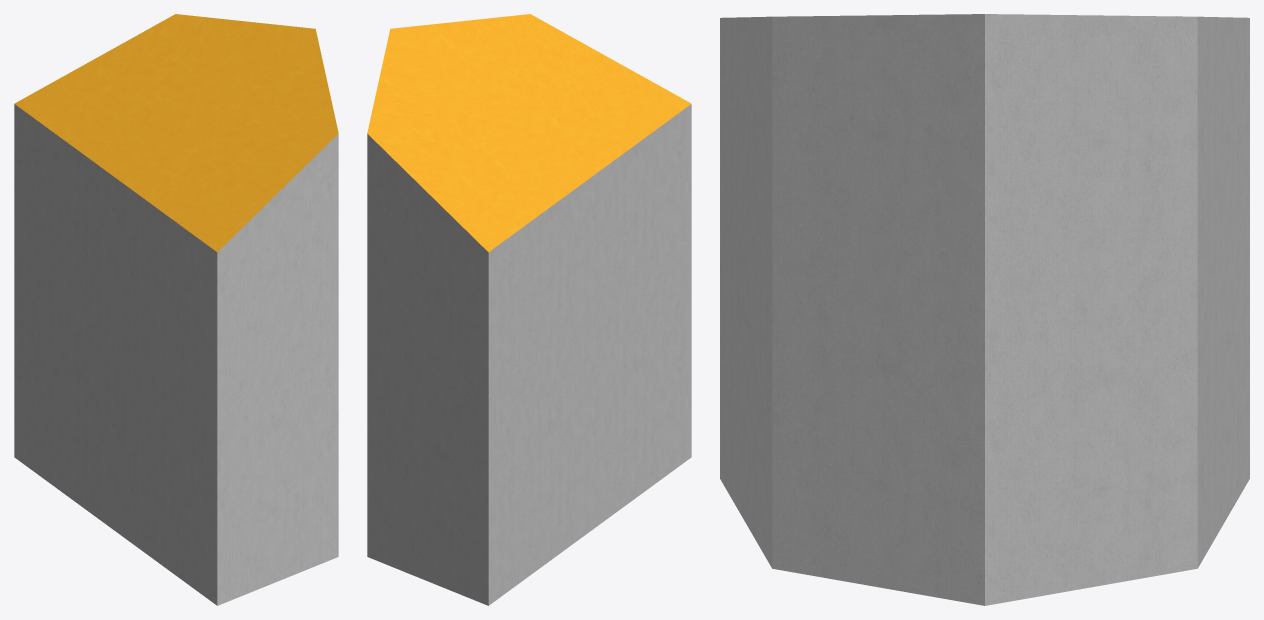
Rendered from Table.fbx.
The picture shows the model from 3 angles, left to right: view 1: azimuth 30°, elevation 25°; view 2: azimuth 150°, elevation 25°; view 3: azimuth 270°, elevation 25°; orthographic projection. The views are drawn at different scales.
Parts seen in each view (by area): view 1: Table; view 2: Table; view 3: Table.
Part boxes in pixels (x1,y1,x2,y2): Table: (14,14,338,605); Table: (367,14,691,605); Table: (720,14,1249,605).
Size of the model in its own units: 39.89 by 86.6 by 70.24.
